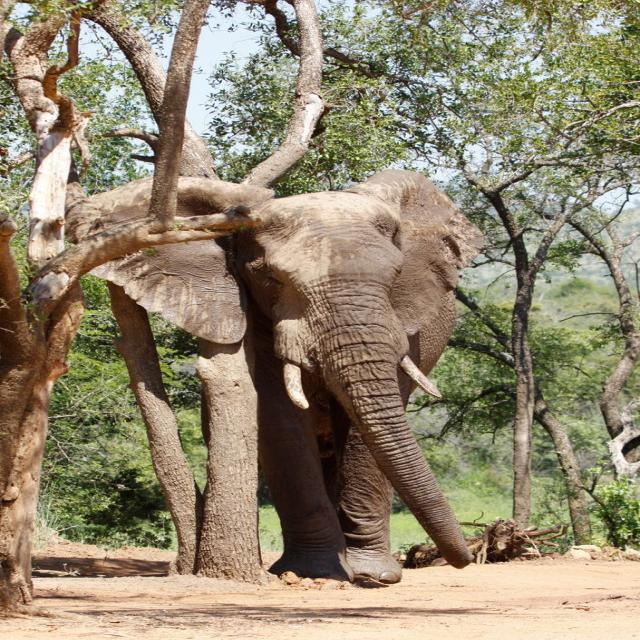elephant: (60, 158, 499, 573)
